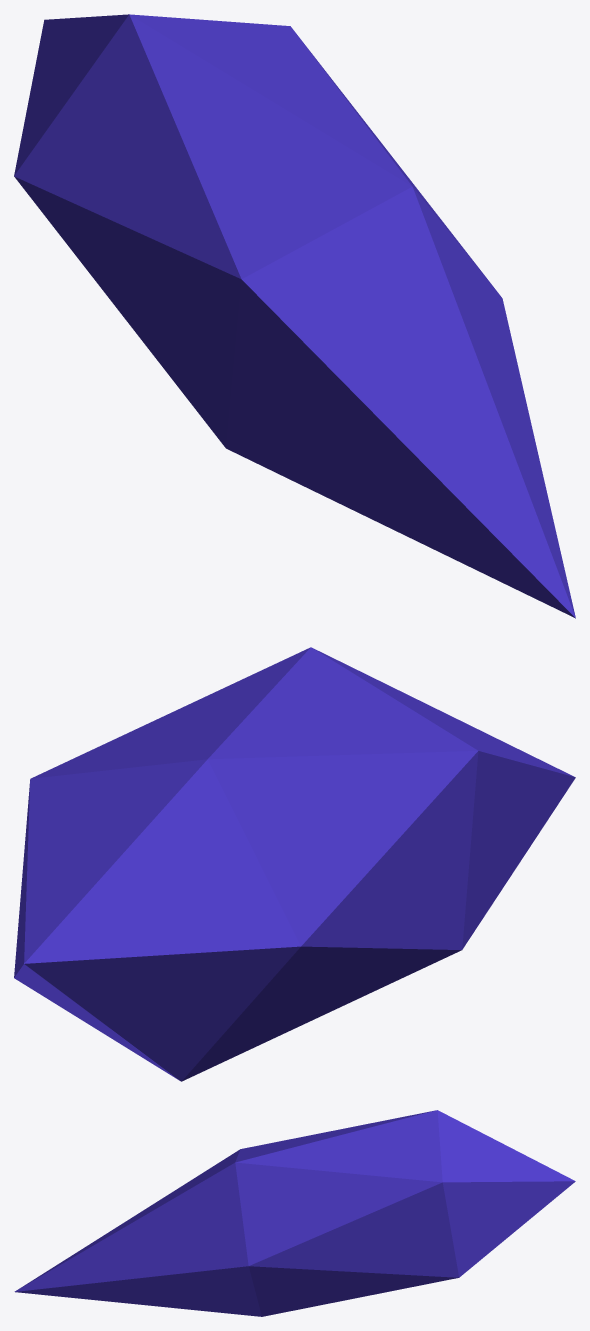
Rendered from streptococcus_pyogenes_head.obj.
3 views of the same model, one above another, from view 1: azimuth 30°, elevation 25°; view 2: azimuth 150°, elevation 25°; view 3: azimuth 270°, elevation 25° (orthographic). The views are drawn at different scales.
Visible parts, largest first — view 1: pPlatonic2 group19 group20; view 2: pPlatonic2 group19 group20; view 3: pPlatonic2 group19 group20.
Boxes of the visible parts, x1,y1,x2,y2 form: pPlatonic2 group19 group20: [14, 14, 575, 618]; pPlatonic2 group19 group20: [14, 647, 575, 1081]; pPlatonic2 group19 group20: [14, 1110, 575, 1316].
Size of the model in its own units: 1.79 by 1.99 by 5.54.
Materials: 1 (1 with a texture image).
